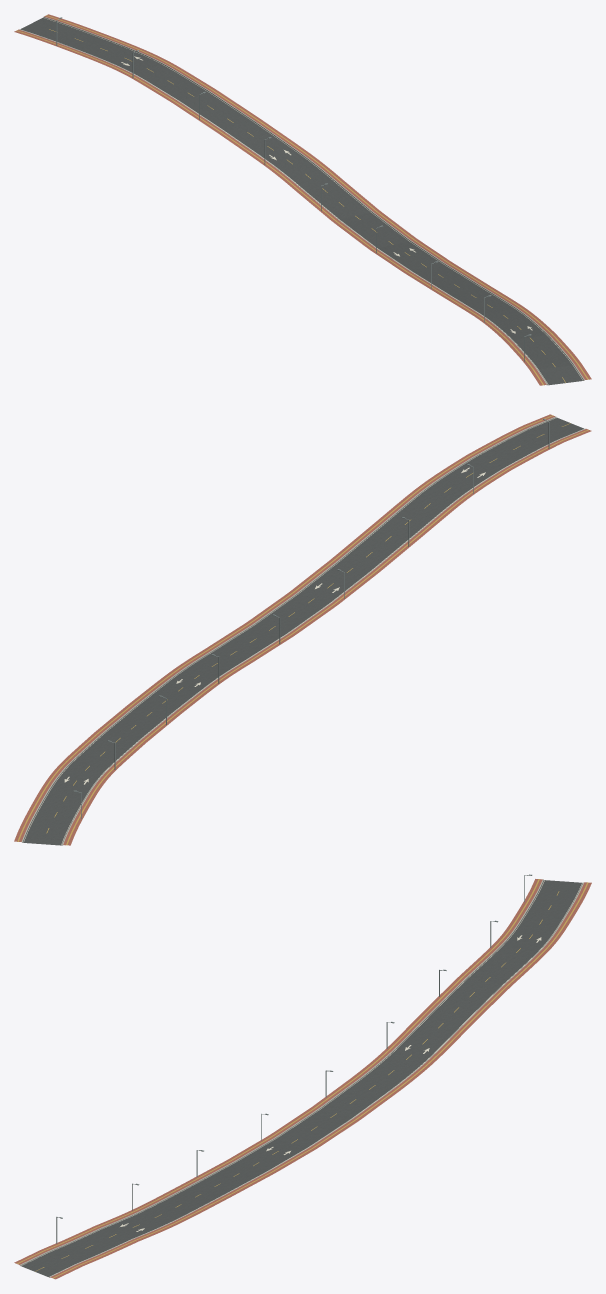
File: infra-road-00.glb
The picture shows the model from 3 angles, top to bottom: view 1: azimuth 30°, elevation 25°; view 2: azimuth 150°, elevation 25°; view 3: azimuth 330°, elevation 25°; orthographic projection. The views are drawn at different scales.
Visible parts, largest first — view 1: infra-road-00; view 2: infra-road-00; view 3: infra-road-00.
Part boxes in pixels (bbox=[...]): infra-road-00: bbox=[14, 14, 591, 385]; infra-road-00: bbox=[14, 414, 591, 845]; infra-road-00: bbox=[14, 874, 591, 1279].
Bounding box in the file's own units: 30.56 × 14.41 × 271.
Materials: 8 (1 with a texture image).
